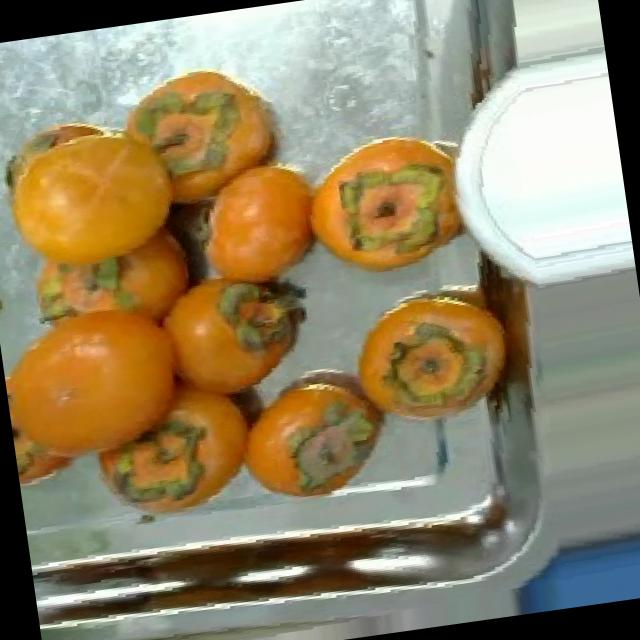Fruit: (328, 267, 534, 457), (295, 116, 491, 296), (271, 398, 409, 513)
